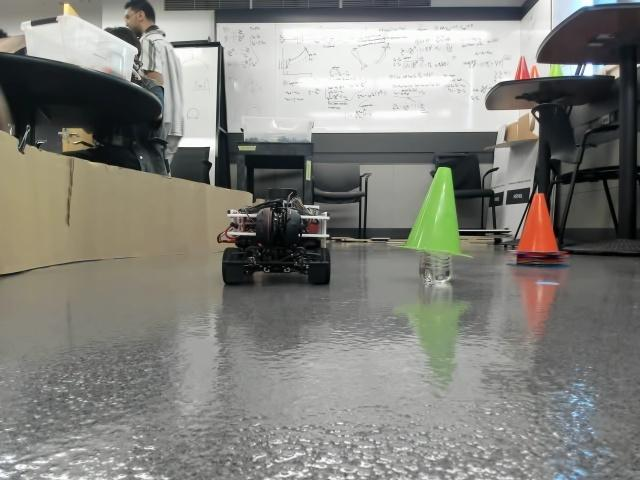Car: (222, 198, 330, 284)
